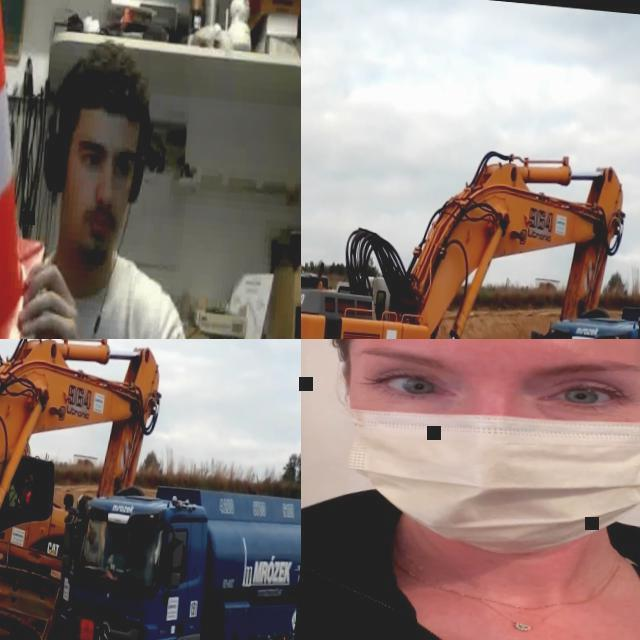machinery: (301, 120, 631, 339), (0, 339, 171, 640), (49, 474, 301, 640), (0, 339, 99, 640)
mask: (325, 370, 640, 567)
no_helmet: (61, 33, 158, 125)
no_mask: (62, 196, 131, 268)
no_vest: (301, 501, 640, 640), (0, 256, 159, 339)
person: (301, 339, 640, 640), (0, 0, 238, 339), (21, 477, 33, 506)
safety_cone: (0, 0, 67, 339)
vest: (22, 489, 32, 503)
